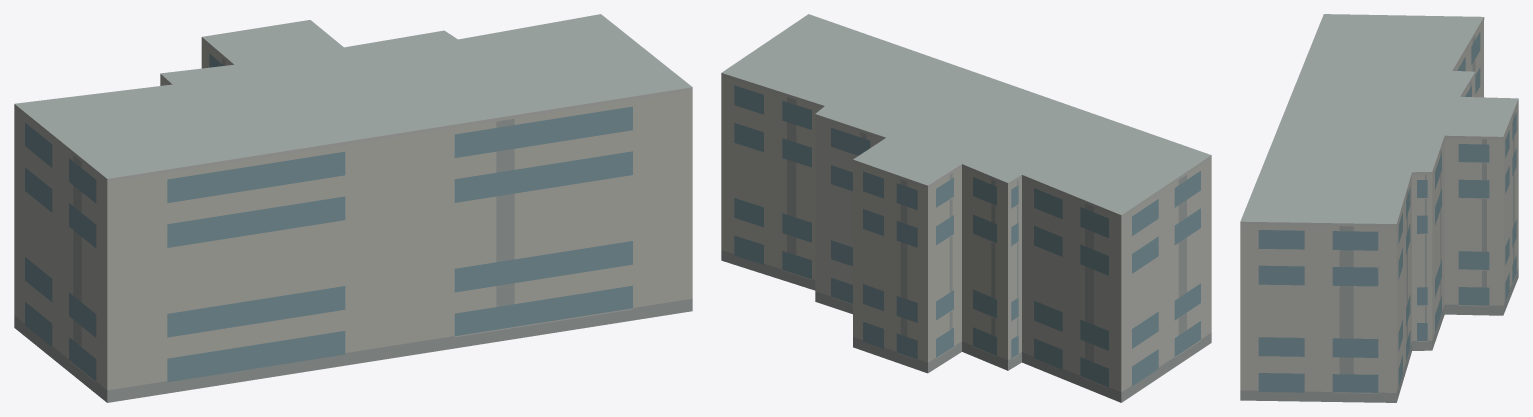
Rendered from residential-960113d3-4e15-46e3-b886-c64a7d3ddfad.glb.
3 renders of one model, left to right at view 1: azimuth 30°, elevation 25°; view 2: azimuth 150°, elevation 25°; view 3: azimuth 270°, elevation 25°, orthographic. The views are drawn at different scales.
Parts seen in each view (by area): view 1: residential-960113d3-4e15-46e3-b886-c64a7d3ddfad.tmp; view 2: residential-960113d3-4e15-46e3-b886-c64a7d3ddfad.tmp; view 3: residential-960113d3-4e15-46e3-b886-c64a7d3ddfad.tmp.
Boxes of the visible parts, left/top/right/bottom form: residential-960113d3-4e15-46e3-b886-c64a7d3ddfad.tmp: left=14, top=14, right=692, bottom=402; residential-960113d3-4e15-46e3-b886-c64a7d3ddfad.tmp: left=721, top=14, right=1211, bottom=402; residential-960113d3-4e15-46e3-b886-c64a7d3ddfad.tmp: left=1240, top=14, right=1518, bottom=402.
Bounding box in the file's own units: 38.44 × 15.25 × 21.53.
